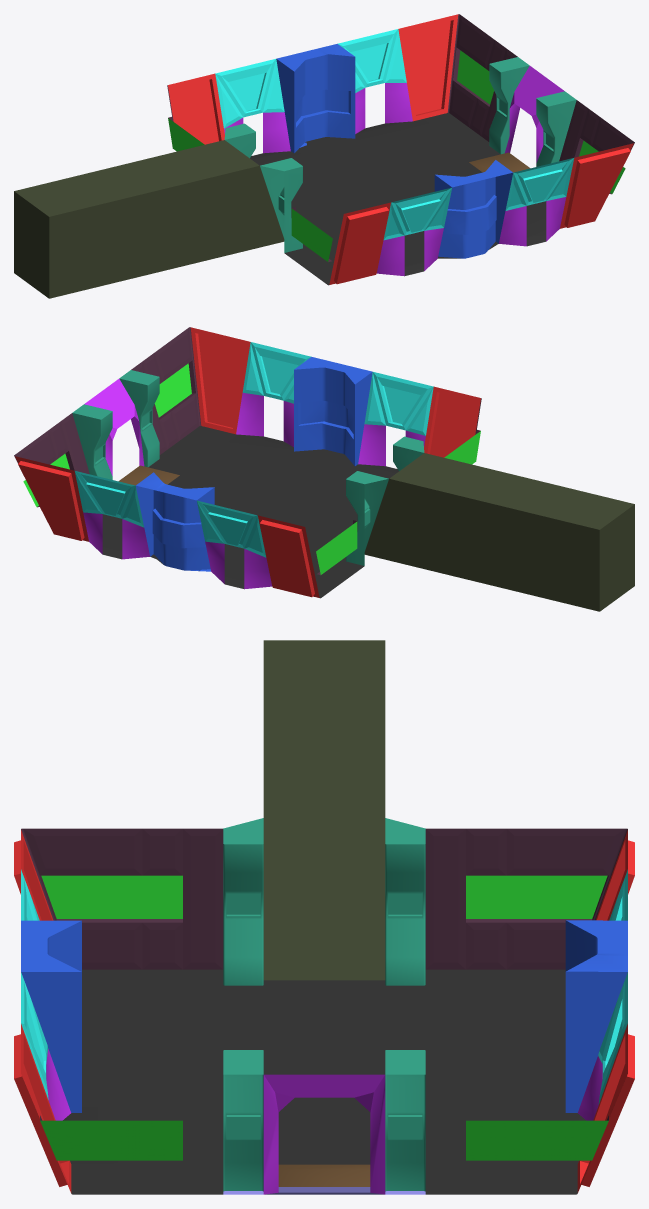
Rendered from Celdas_OK.fbx.
3 renders of one model, top to bottom at view 1: azimuth 30°, elevation 25°; view 2: azimuth 150°, elevation 25°; view 3: azimuth 270°, elevation 25°, orthographic. The views are drawn at different scales.
Visible parts, largest first — view 1: Plane001; view 2: Plane001; view 3: Plane001.
Part boxes in pixels (<box>): Plane001: <box>14,14,634,298</box>; Plane001: <box>14,327,634,611</box>; Plane001: <box>14,640,634,1194</box>.
Size of the model in its own units: 49.84 by 7.86 by 30.14.
